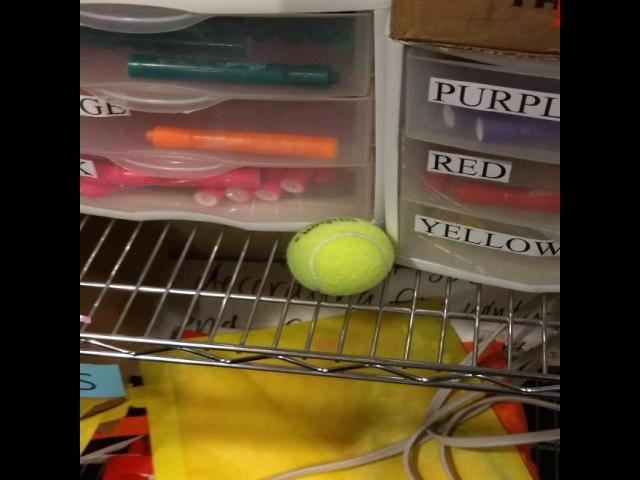tennis-ball: (285, 217, 397, 298)
